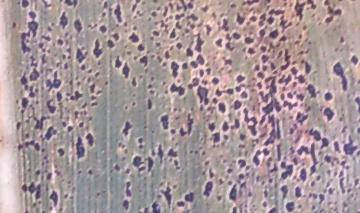tarspot: (259, 76, 279, 115), (259, 115, 284, 145), (321, 1, 343, 29), (332, 59, 349, 94), (242, 110, 260, 136), (21, 182, 43, 201), (279, 159, 294, 183), (72, 134, 86, 159), (161, 184, 175, 209), (44, 71, 62, 90), (195, 85, 211, 106), (343, 134, 357, 157), (279, 48, 292, 72), (168, 81, 186, 98), (309, 143, 318, 177), (91, 37, 104, 60), (193, 32, 206, 54), (119, 119, 134, 138), (43, 123, 57, 143), (202, 178, 214, 200), (293, 1, 305, 23), (20, 29, 29, 57), (31, 112, 45, 130), (168, 59, 180, 79), (227, 183, 239, 203), (155, 143, 166, 164), (159, 112, 171, 131), (190, 54, 205, 69), (294, 108, 308, 124), (131, 152, 144, 169), (27, 20, 40, 37), (186, 111, 196, 133), (72, 16, 84, 34), (75, 47, 87, 65), (322, 105, 334, 123), (137, 53, 151, 68), (166, 146, 180, 161), (305, 83, 319, 98), (68, 89, 83, 103), (48, 190, 61, 206), (296, 143, 309, 159), (114, 2, 123, 25), (28, 66, 40, 83), (59, 10, 69, 30), (252, 148, 262, 168), (233, 12, 246, 27), (84, 131, 96, 147), (122, 61, 132, 80), (303, 57, 313, 76), (45, 97, 55, 116), (112, 54, 123, 71), (144, 155, 155, 172), (279, 183, 290, 200), (55, 145, 68, 159), (310, 128, 322, 143), (298, 166, 308, 183), (127, 31, 140, 44), (183, 189, 195, 203), (315, 191, 326, 206), (124, 179, 133, 197), (349, 52, 359, 68), (212, 86, 224, 99), (222, 55, 234, 68), (97, 21, 108, 35), (105, 37, 116, 51), (232, 97, 243, 111), (232, 29, 243, 43), (18, 70, 27, 87), (332, 136, 341, 153), (61, 1, 80, 9), (211, 130, 221, 145), (217, 100, 227, 115), (321, 135, 331, 150), (239, 90, 251, 102), (26, 9, 39, 20), (268, 27, 279, 40), (257, 26, 268, 39), (268, 161, 279, 174), (19, 95, 29, 109), (259, 51, 269, 65), (221, 119, 231, 133), (190, 74, 200, 88), (214, 35, 223, 50), (293, 185, 302, 200), (232, 117, 241, 132), (236, 72, 247, 84), (223, 86, 235, 97), (236, 157, 248, 168), (243, 34, 254, 46), (237, 131, 248, 143), (285, 89, 296, 101), (112, 161, 123, 173), (323, 152, 333, 165), (204, 23, 214, 36), (55, 89, 64, 103), (323, 90, 334, 101), (55, 36, 65, 48), (246, 46, 256, 58), (284, 200, 294, 212), (266, 14, 276, 26), (247, 14, 259, 24), (297, 74, 307, 86), (44, 170, 54, 182), (207, 119, 216, 132), (251, 59, 260, 72), (14, 118, 22, 132), (150, 27, 160, 38), (258, 43, 268, 54), (223, 165, 234, 175), (88, 81, 97, 93), (175, 40, 184, 52), (149, 8, 158, 20), (134, 43, 147, 51), (145, 97, 153, 110), (175, 198, 185, 208), (177, 126, 187, 136), (236, 171, 246, 181), (130, 79, 140, 89), (211, 76, 220, 87), (168, 28, 177, 39), (296, 93, 307, 102), (180, 59, 187, 72), (21, 1, 32, 9), (278, 33, 286, 44), (290, 65, 298, 76), (77, 119, 85, 129), (186, 1, 194, 11), (163, 50, 171, 60), (80, 62, 87, 73), (37, 40, 44, 51), (33, 169, 41, 178), (86, 168, 94, 177), (230, 205, 239, 213), (137, 135, 144, 144), (61, 119, 68, 127)
